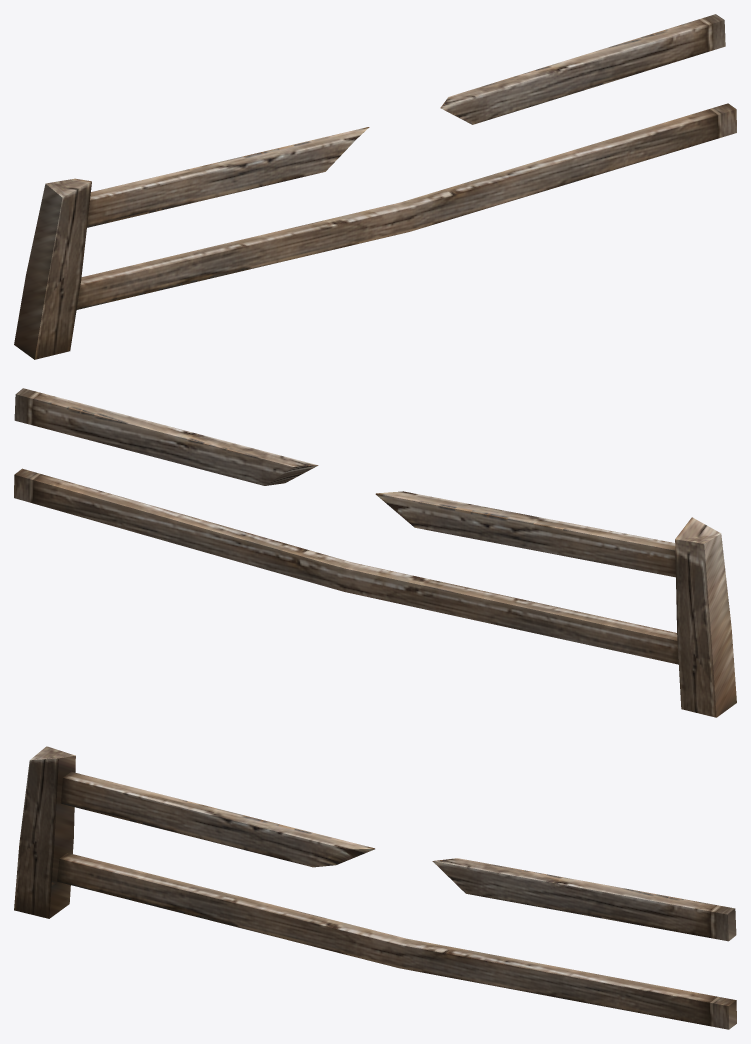
The model's file is start_fence_12.glb.
3 views of the same model, one above another, from view 1: azimuth 30°, elevation 25°; view 2: azimuth 150°, elevation 25°; view 3: azimuth 330°, elevation 25° (orthographic).
Visible parts, largest first — view 1: start_fence_12_game; view 2: start_fence_12_game; view 3: start_fence_12_game.
Boxes of the visible parts, x1,y1,x2,y2 form: start_fence_12_game: (14,14,736,359); start_fence_12_game: (14,388,736,717); start_fence_12_game: (14,746,736,1029).
Bounding box in the file's own units: 4.72 × 1.08 × 0.3392.
1 material, 1 textured.
